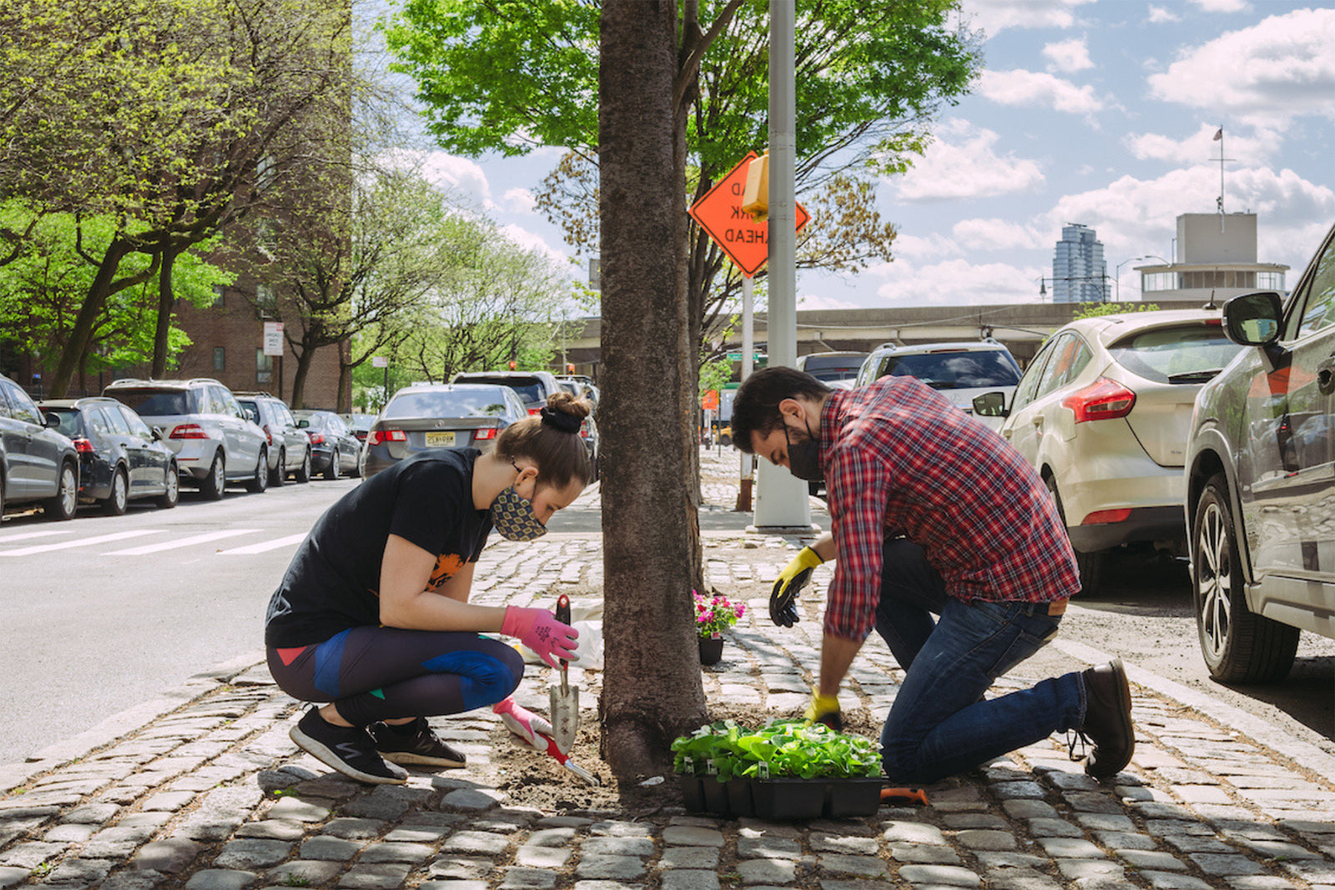Car: (1168, 199, 1335, 701), (1000, 295, 1242, 571), (112, 365, 292, 495), (37, 402, 205, 509), (1, 380, 86, 520)
Crosswalk: (20, 501, 300, 576)
Person: (721, 375, 1166, 787), (264, 378, 585, 828)
Tree: (515, 1, 809, 799), (1, 1, 270, 378), (224, 122, 387, 401)
